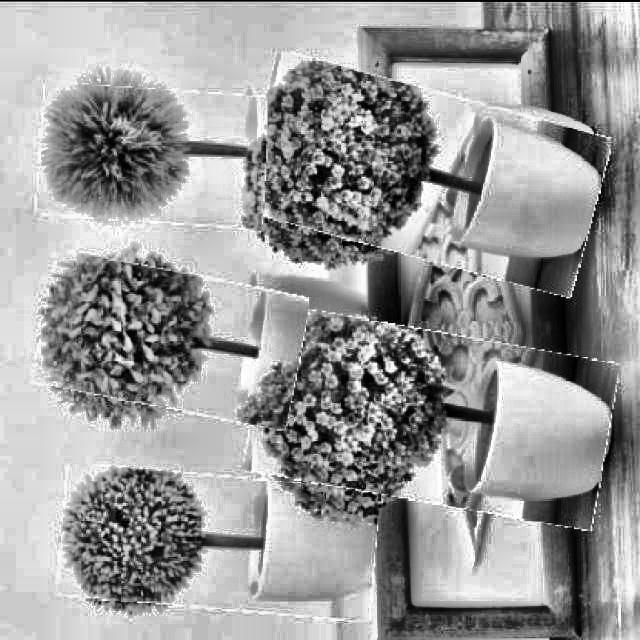plants: (243, 70, 605, 276), (250, 316, 615, 515), (59, 468, 378, 612), (38, 258, 307, 417), (39, 83, 268, 223)
